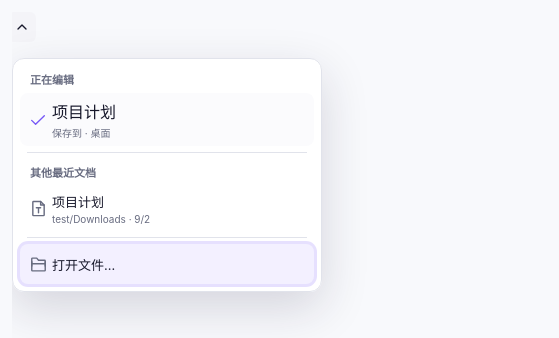
Test: recent document file actions › separates the current save target from a same-named recent file
This screenshot has width=559, height=338.
Expected: the element with class "document-switcher__current-row" reads "项目计划 保存到 · 桌面", top-left (20, 93), bottom-right (314, 146)
Expected: the number of menu items with class "document-switcher__recent" is 1, top-left (20, 186), bottom-right (267, 231)
Press ArrowDown in the menu with class "document-switcher__popover", box top-left (12, 58), bottom-right (322, 292)
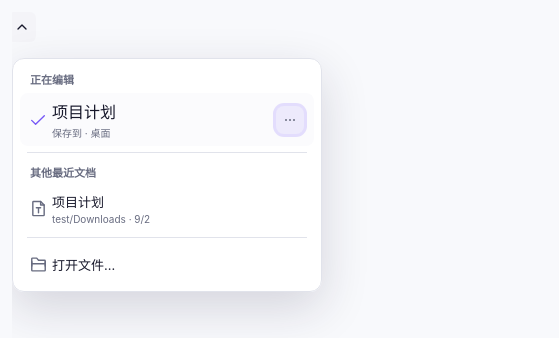
Click the menu item named "当前文件操作：项目计划" at (290, 120), box top-left (276, 106), bottom-right (304, 134)
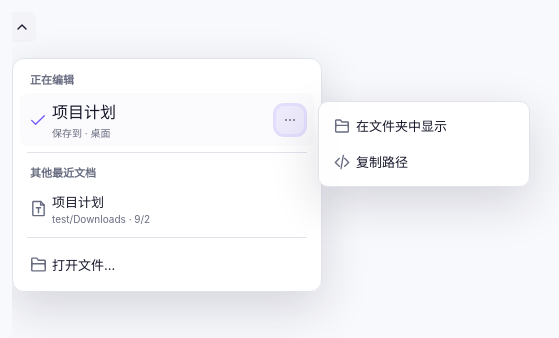
Expected: the menu with class "document-switcher__actions-menu" shows "复制路径", top-left (325, 144), bottom-right (523, 180)
Click the menu item "在文件夹中显示" at (424, 126), box top-left (325, 108), bottom-right (523, 144)
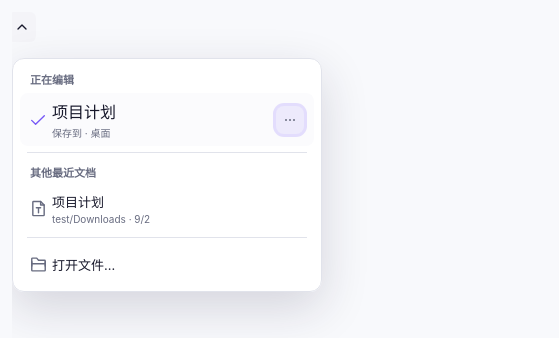
Click the menu item named "当前文件操作：项目计划" at (290, 120), box top-left (276, 106), bottom-right (304, 134)
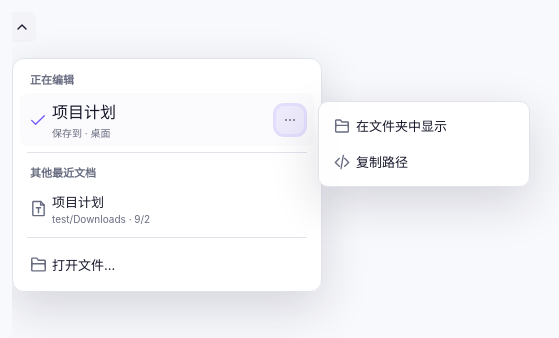
Click the menu item "复制路径" at (424, 162), box top-left (325, 144), bottom-right (523, 180)
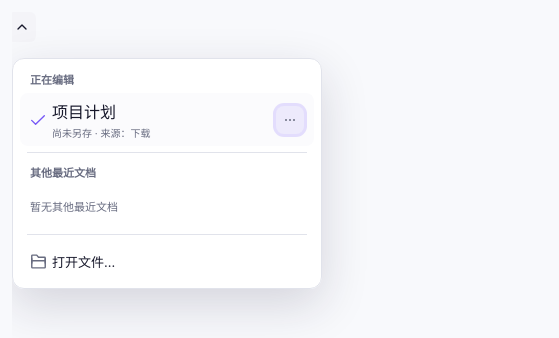
Expected: the element with class "document-switcher__current-row" shows "尚未另存 · 来源：下载", top-left (52, 127), bottom-right (150, 139)
Expected: no menu items with class "document-switcher__recent" are shown
